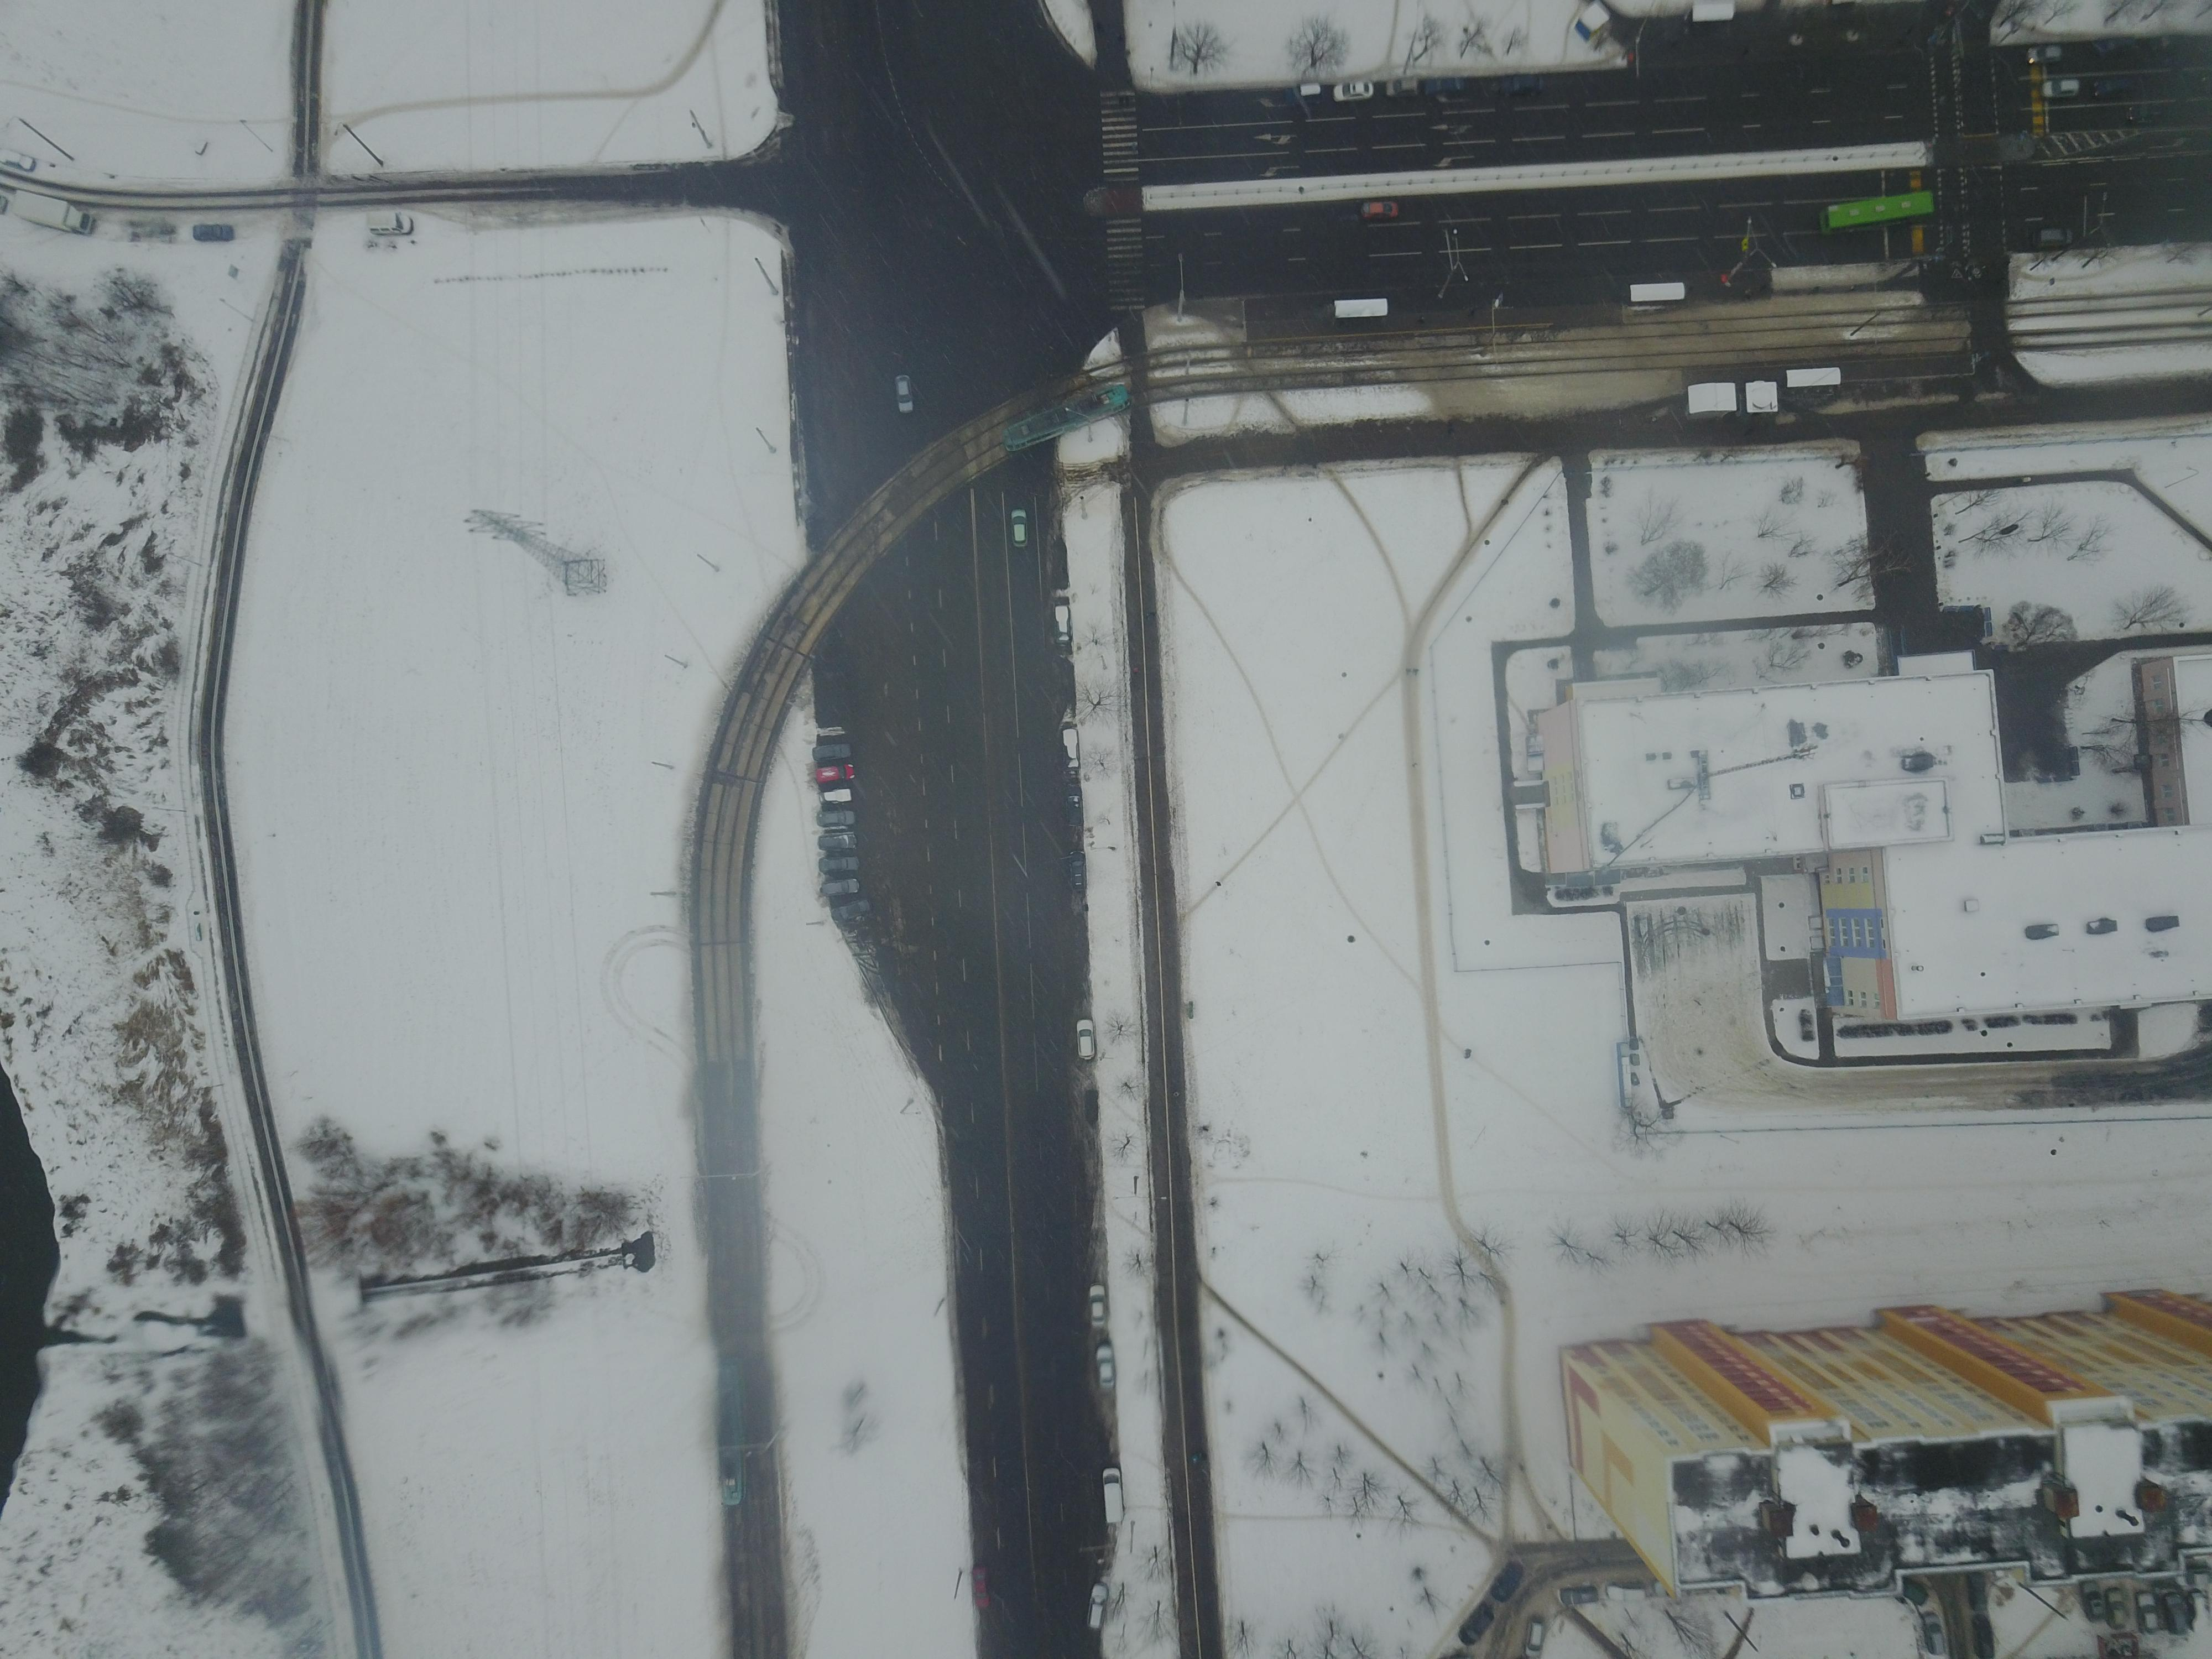car: (1458, 1605, 1496, 1645), (1489, 1560, 1524, 1603), (364, 209, 415, 237), (1489, 73, 1547, 98), (1085, 1581, 1109, 1629), (1423, 71, 1468, 98), (1094, 1344, 1116, 1391), (1557, 1582, 1599, 1607), (1604, 1579, 1646, 1603), (192, 223, 235, 246), (2027, 227, 2074, 247), (1089, 1283, 1109, 1330), (1284, 82, 1325, 105), (2094, 77, 2139, 98), (829, 899, 871, 922), (1075, 1018, 1097, 1060), (1061, 727, 1082, 770), (970, 1565, 991, 1608), (1332, 80, 1374, 101), (1383, 75, 1425, 96), (1359, 200, 1400, 221), (813, 762, 855, 782), (817, 831, 857, 852), (1068, 849, 1087, 892), (894, 375, 914, 413), (1010, 507, 1029, 549), (2041, 78, 2081, 98), (1524, 1617, 1543, 1657), (2027, 44, 2066, 63), (1054, 605, 1073, 643), (1066, 784, 1083, 826), (812, 744, 853, 762), (2127, 105, 2163, 124), (815, 809, 855, 826), (5, 150, 37, 171), (817, 788, 853, 805), (819, 856, 859, 871), (820, 878, 860, 894)
